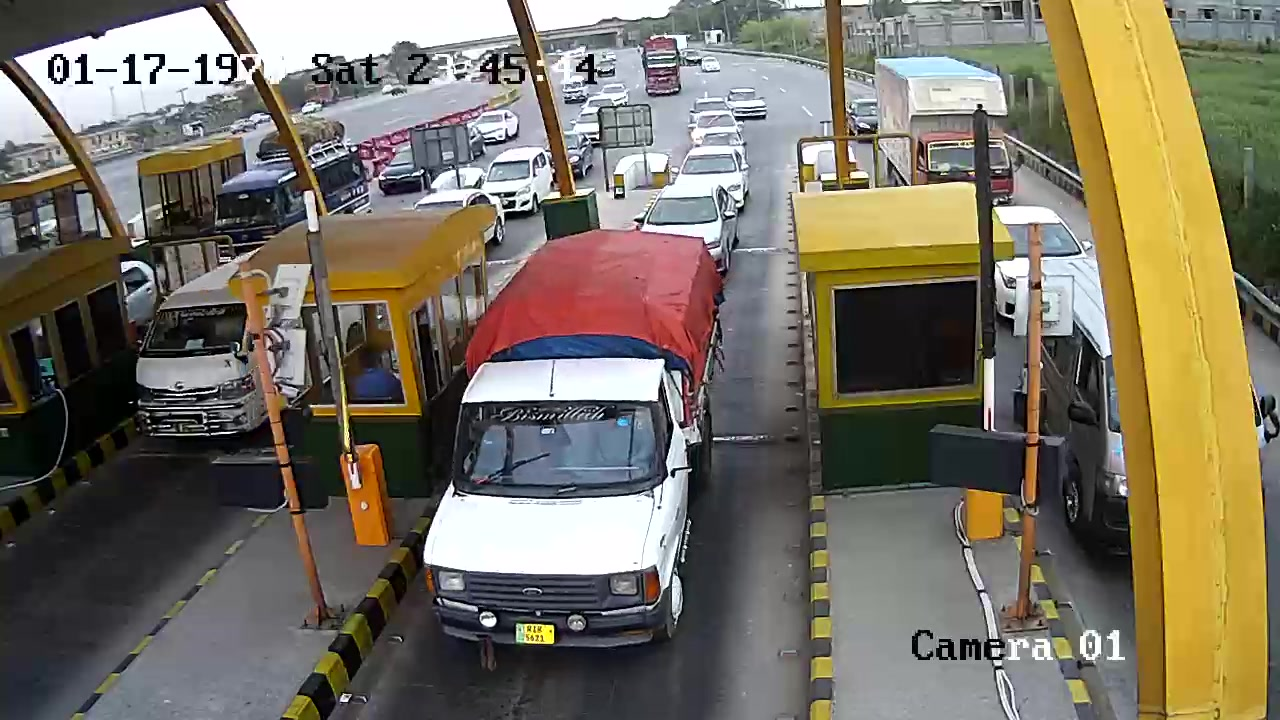F2: (411, 227, 738, 673)
